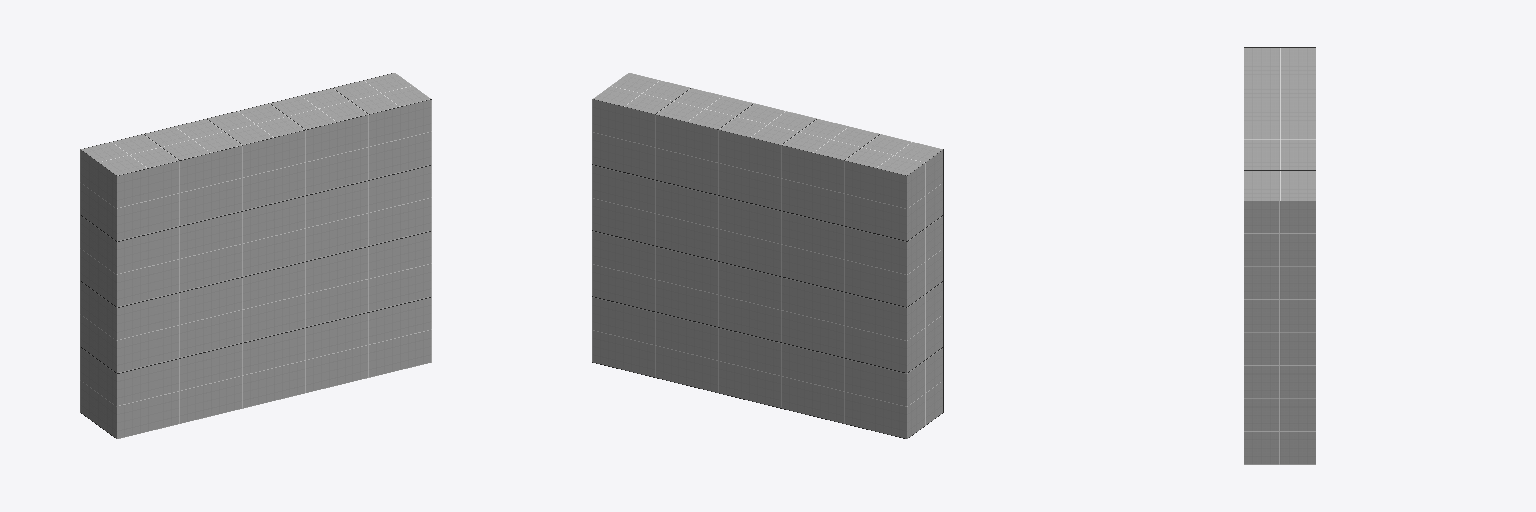
The picture shows the model from 3 angles: view 1: azimuth 30°, elevation 25°; view 2: azimuth 150°, elevation 25°; view 3: azimuth 270°, elevation 25°; orthographic projection.
Visible parts, largest first — view 1: Cube; view 2: Cube; view 3: Cube.
Boxes of the visible parts, x1,y1,x2,y2 form: Cube: [80, 73, 431, 438]; Cube: [592, 73, 943, 438]; Cube: [1244, 47, 1315, 464].
Bounding box in the file's own units: 20 × 16 × 4.
Materials: 1 (1 with a texture image).